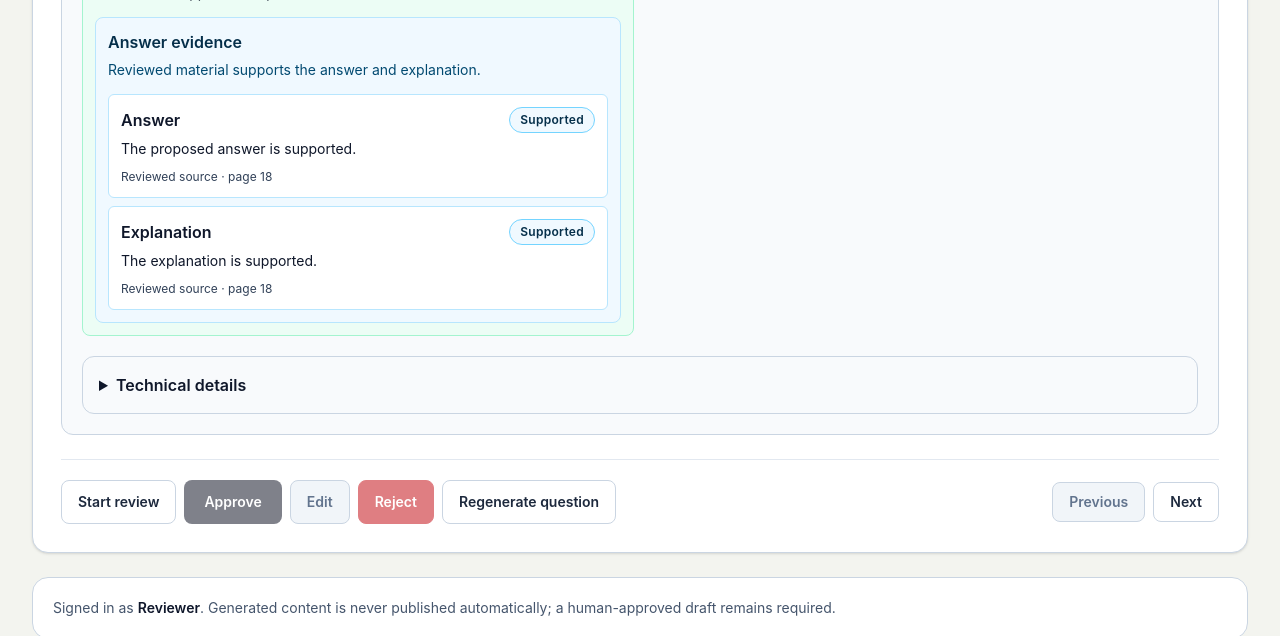
Scenario: ReviewApproveStudio › requires and sends a teacher rejection reason
(page scrolled)
Click the button "Start review".
click(119, 502)  # box [61,480,176,524]
(page scrolled)
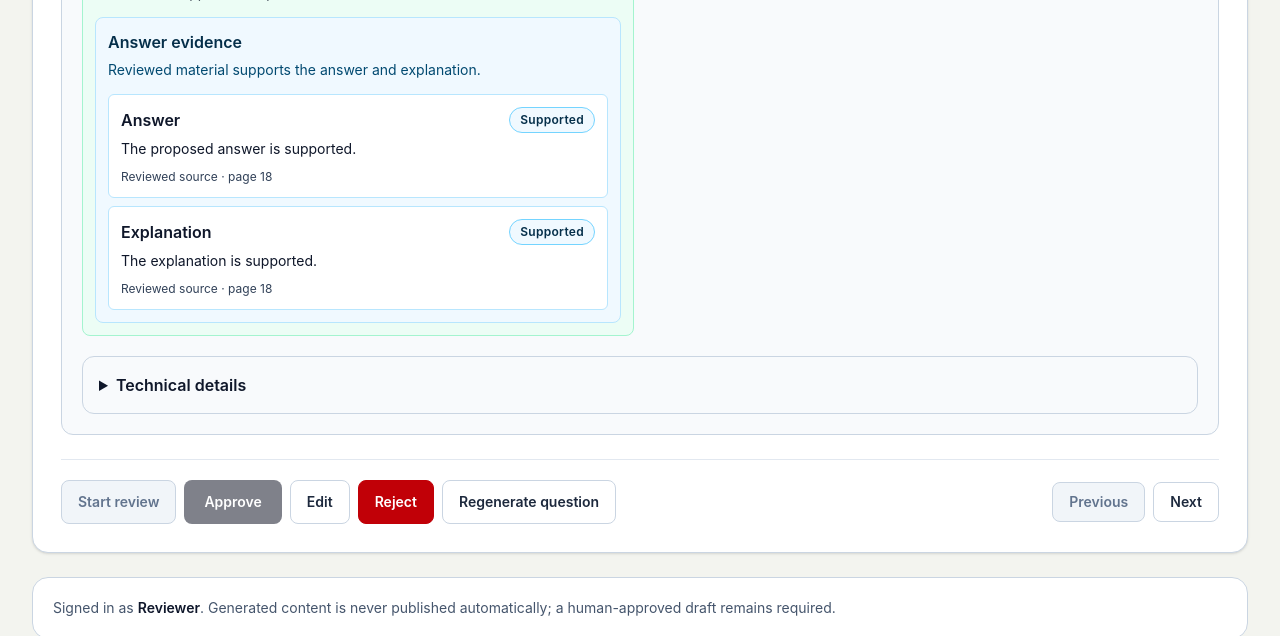
Click the button "Reject".
click(396, 502)  # box [358,480,434,524]
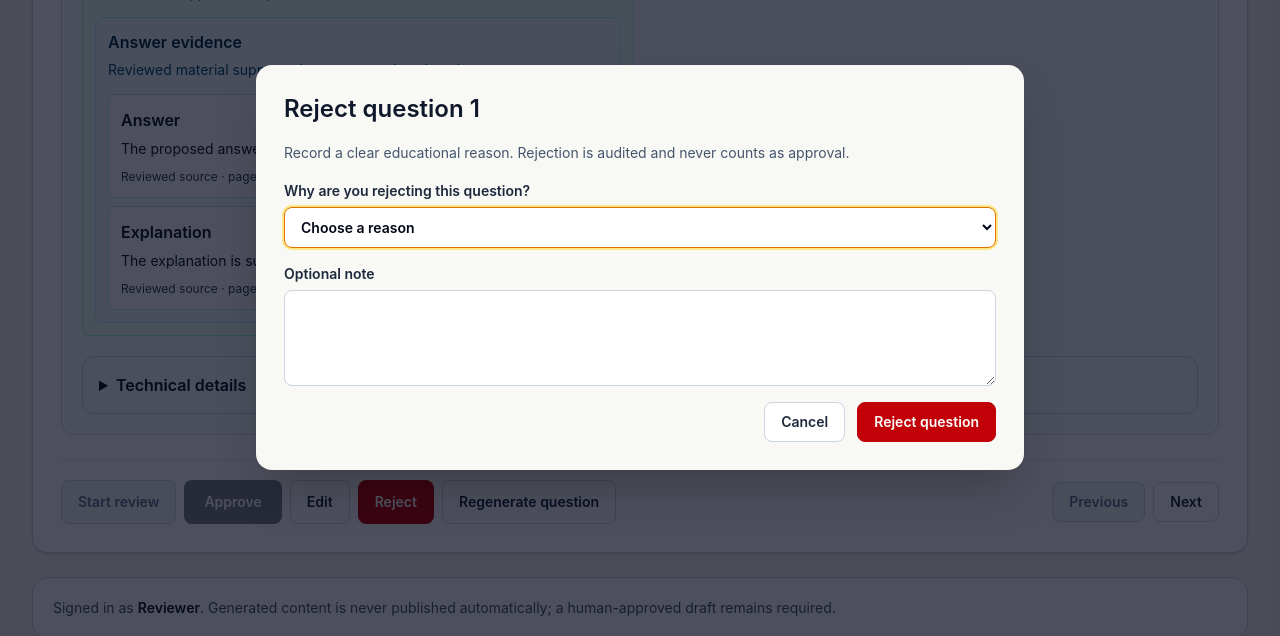
Select "The answer choices are not suitable" in the dropdown labelled "Why are you rejecting this question?" at (640, 227), box [284,206,996,248]
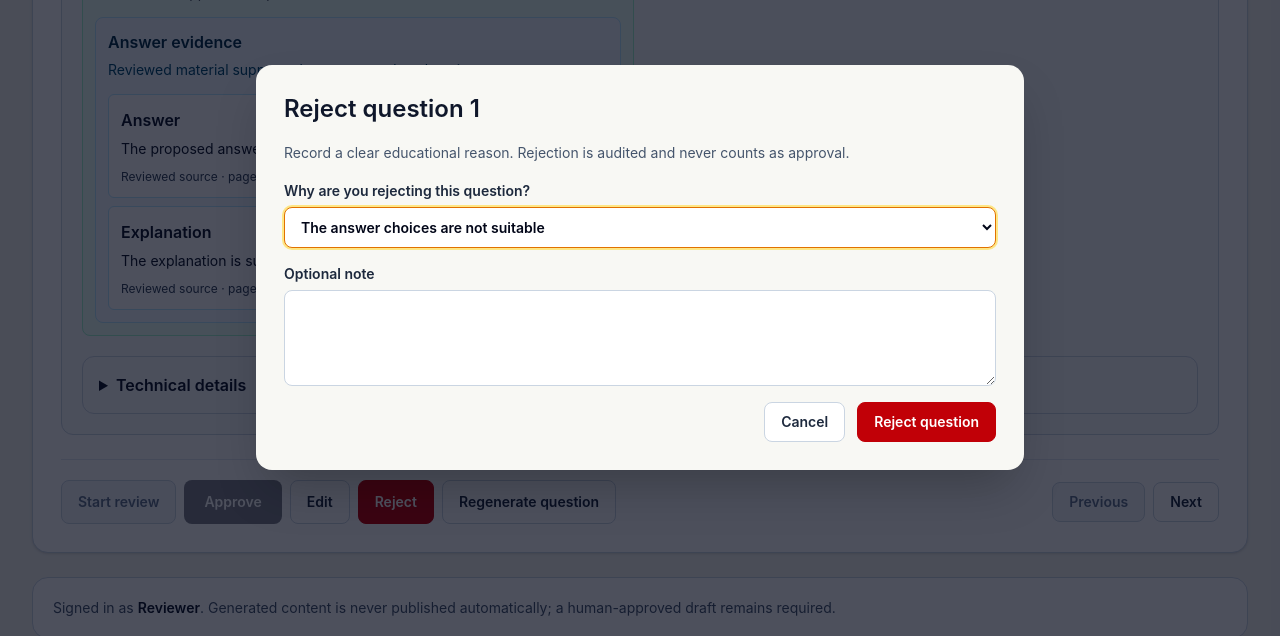
Type "The distractors are not suitable for this lesson." into the text box labelled "Optional note".
click(640, 338); type("The distractors are not suitable for this lesson.")  # box [284,290,996,386]
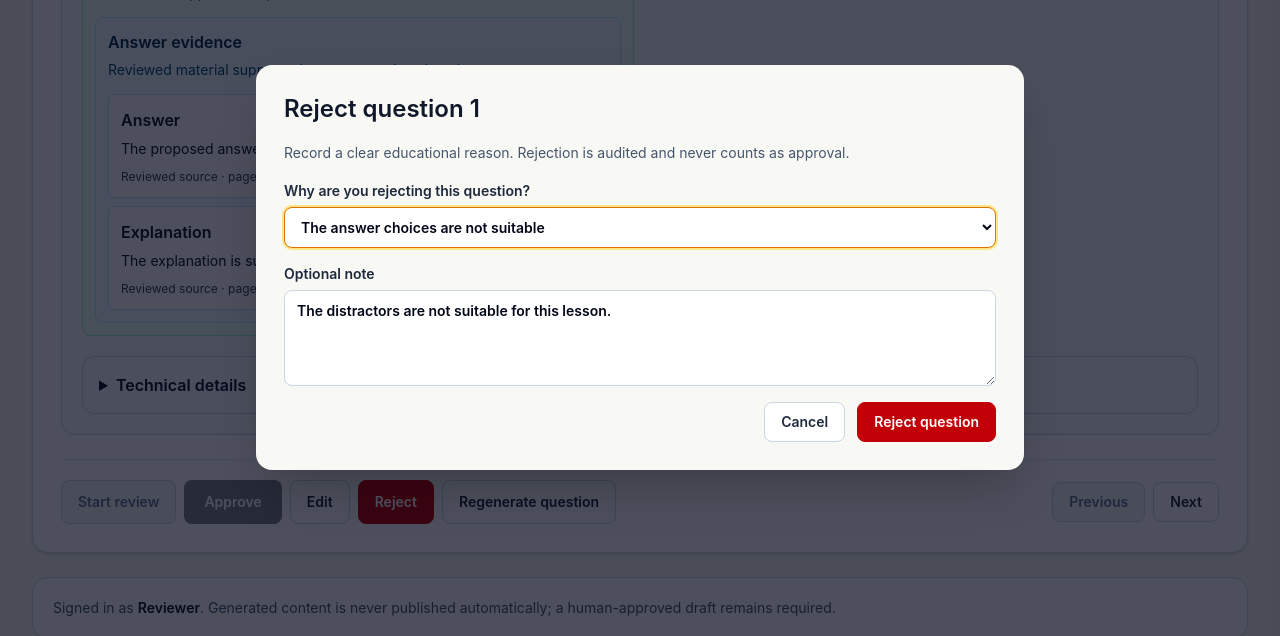
Click the button "Reject question".
click(927, 422)  # box [857,402,996,442]
(page scrolled)
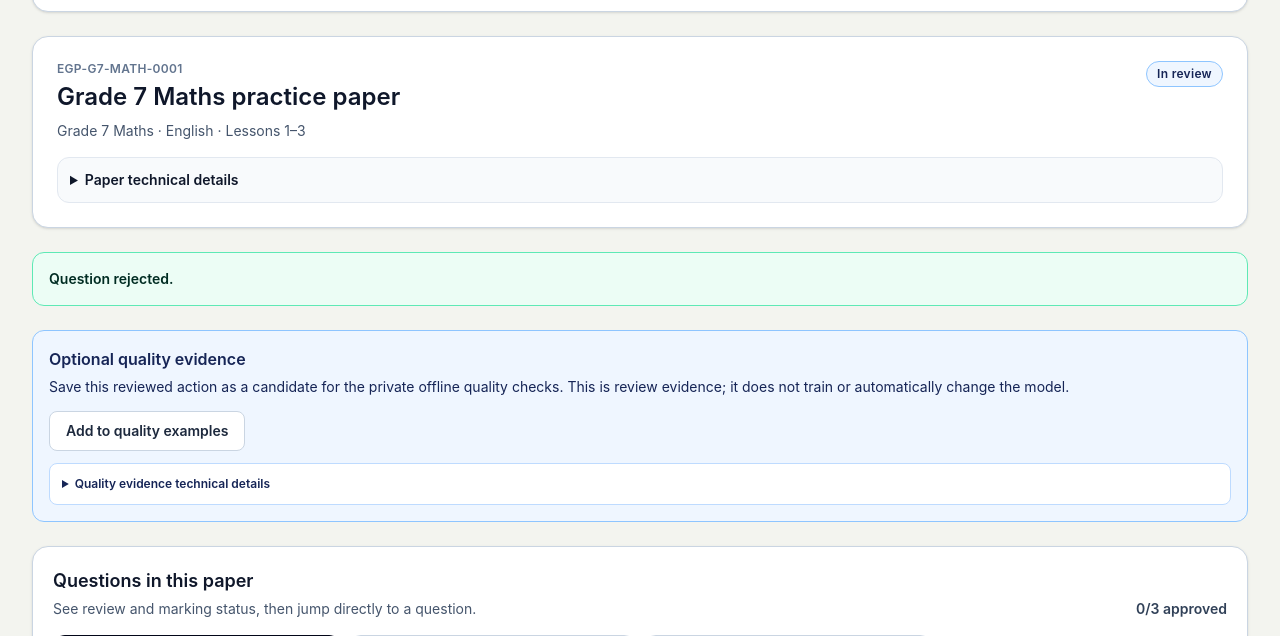
Result: the text "Question rejected." is shown at [32,252,1248,306]
